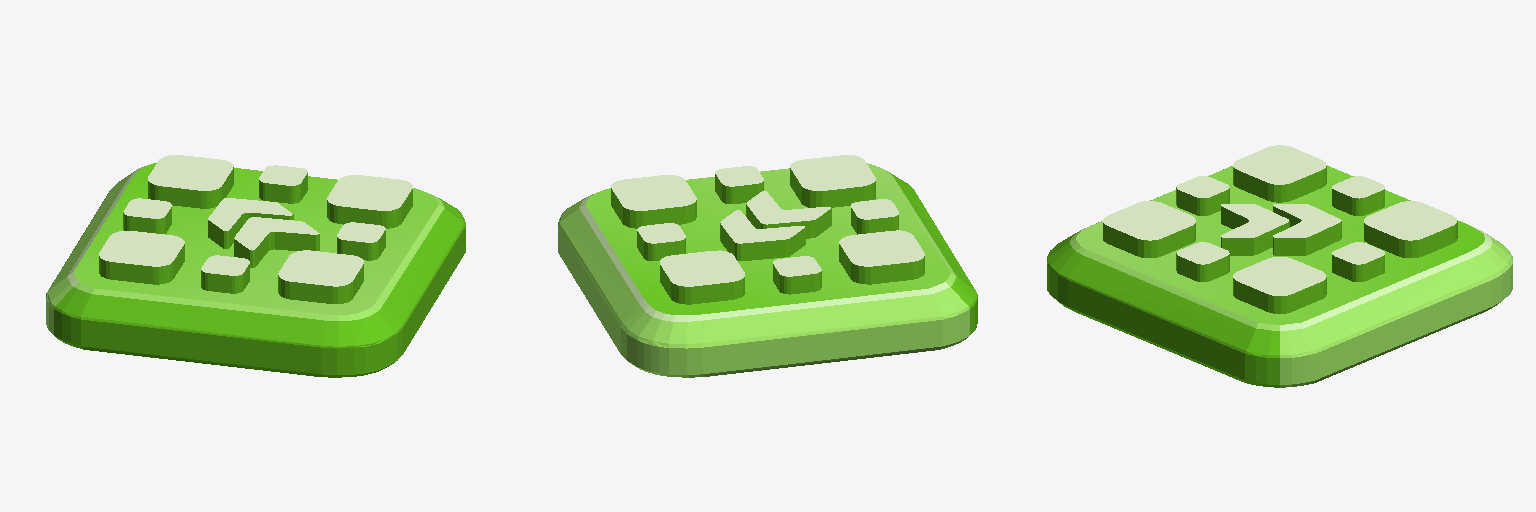
3 views of the same model, side by side, from view 1: azimuth 30°, elevation 25°; view 2: azimuth 150°, elevation 25°; view 3: azimuth 270°, elevation 25° (orthographic).
Parts seen in each view (by area): view 1: msStayStrongStone; view 2: msStayStrongStone; view 3: msStayStrongStone.
Part boxes in pixels (x1,y1,x2,y2): msStayStrongStone: (46, 155, 465, 377); msStayStrongStone: (558, 155, 977, 377); msStayStrongStone: (1047, 145, 1512, 387).
Size of the model in its own units: 8.98 by 1.5 by 8.98.
1 materials, 1 textured.